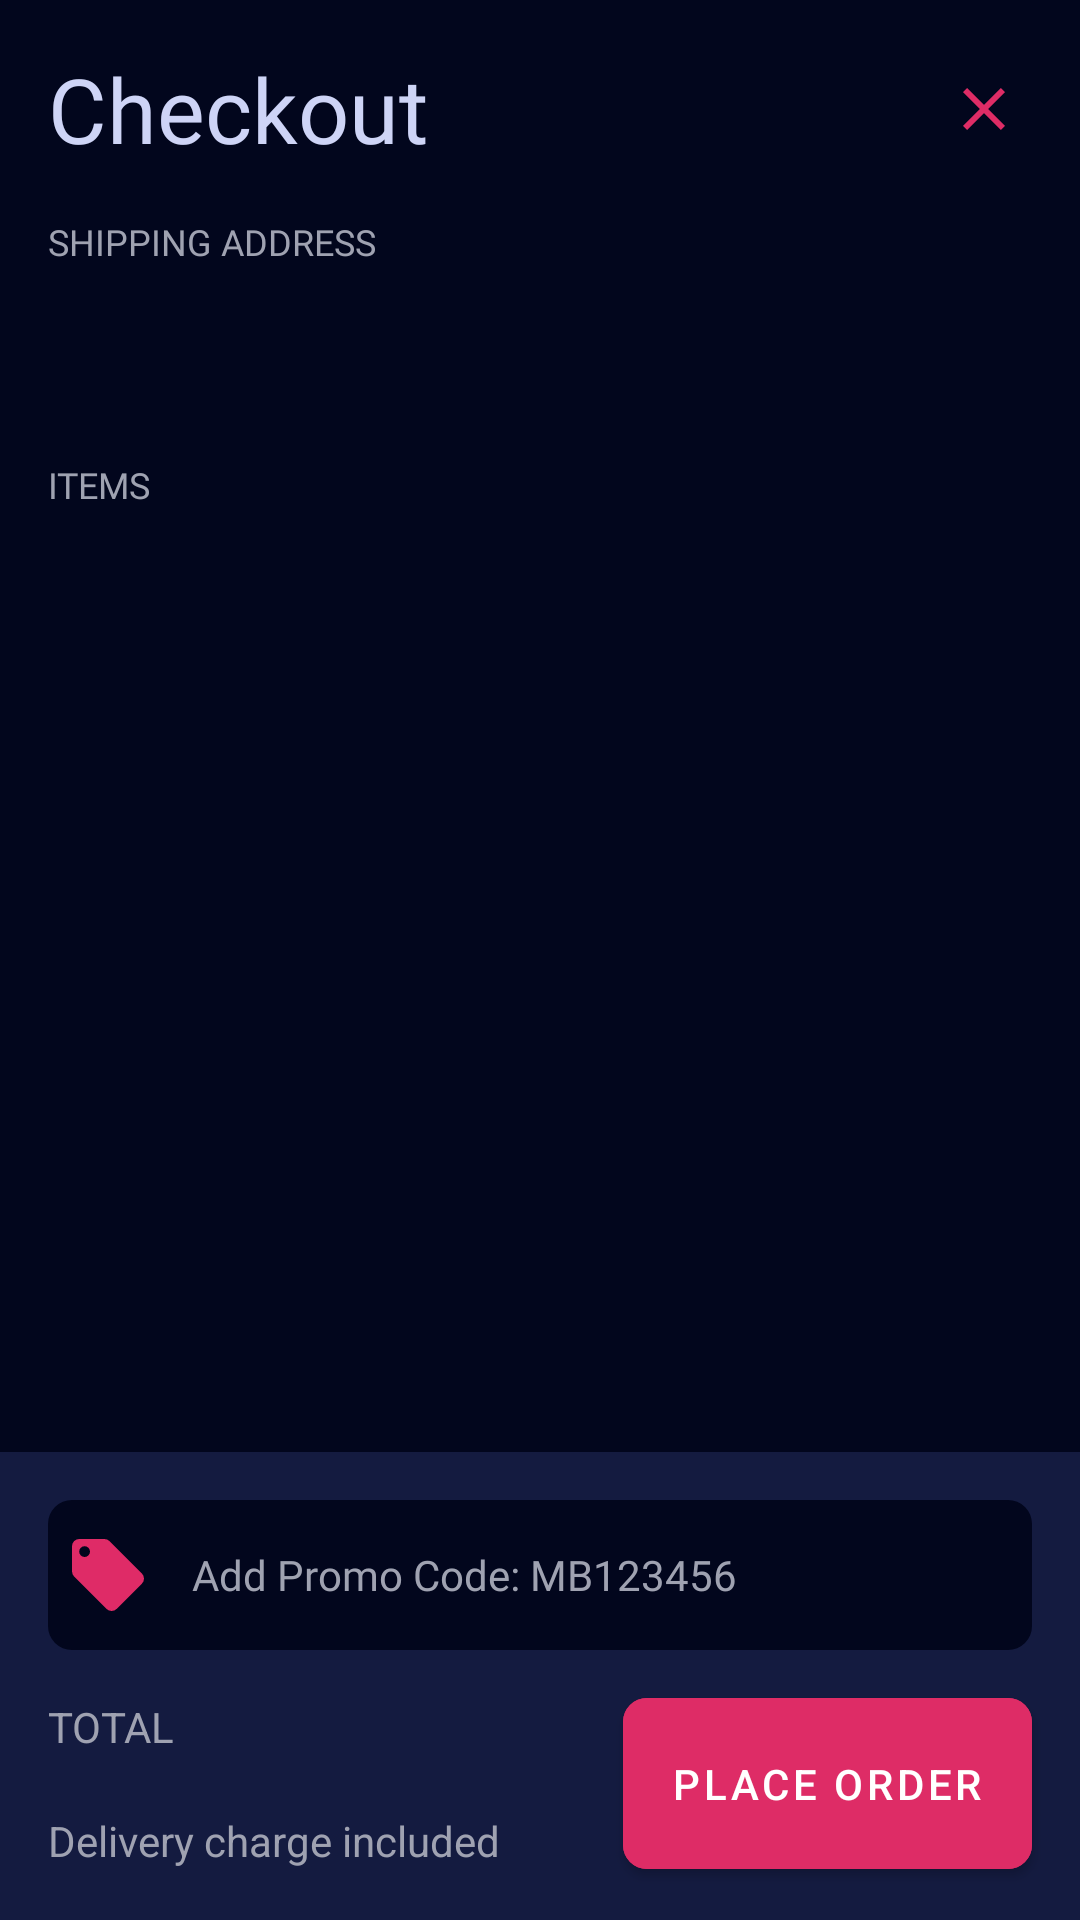

Point at icon controls on the screen. Image size 1080w x 1920h, points as (x=x, y=y).
close: (x=984, y=109)
